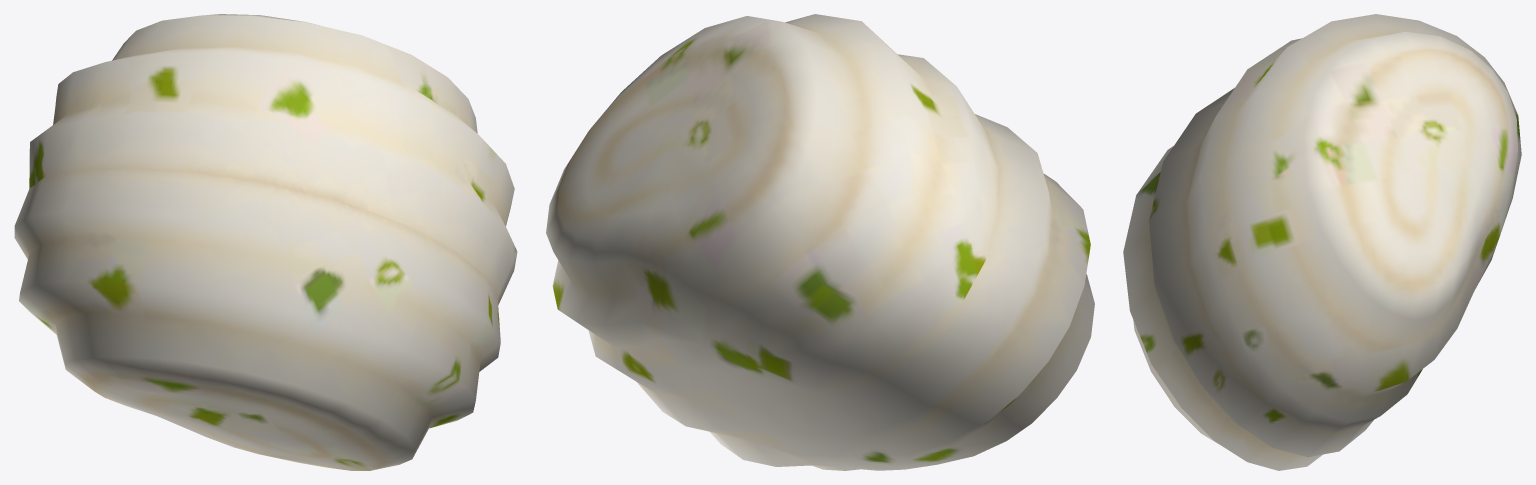
File: ref_bfflowerroll.glb
The picture shows the model from 3 angles, left to right: view 1: azimuth 30°, elevation 25°; view 2: azimuth 150°, elevation 25°; view 3: azimuth 270°, elevation 25°; orthographic projection. The views are drawn at different scales.
Visible parts, largest first — view 1: ref_bfflowerroll_part0; view 2: ref_bfflowerroll_part0; view 3: ref_bfflowerroll_part0.
Boxes of the visible parts, box(x1,y1,x2,y2) form: ref_bfflowerroll_part0: box(14, 14, 517, 470); ref_bfflowerroll_part0: box(546, 14, 1094, 470); ref_bfflowerroll_part0: box(1123, 14, 1521, 470).
Size of the model in its own units: 1 by 0.8806 by 0.8179.
1 material, 1 textured.
